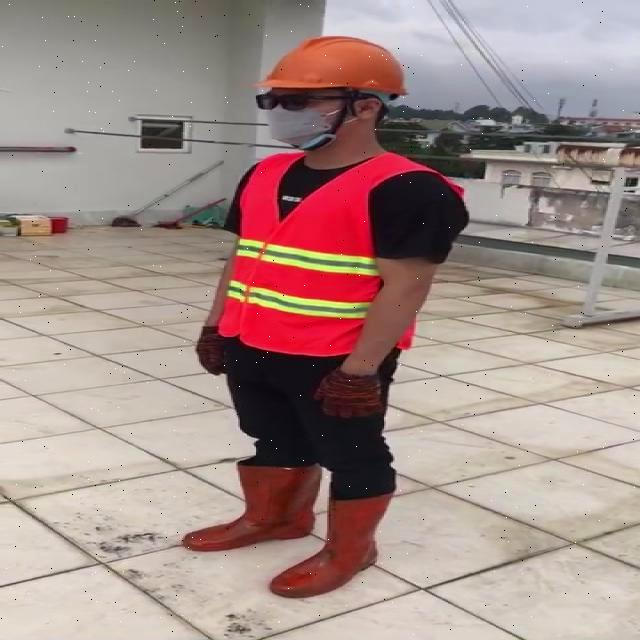Hard_hat: (249, 32, 417, 112)
Vest: (225, 147, 387, 361)
